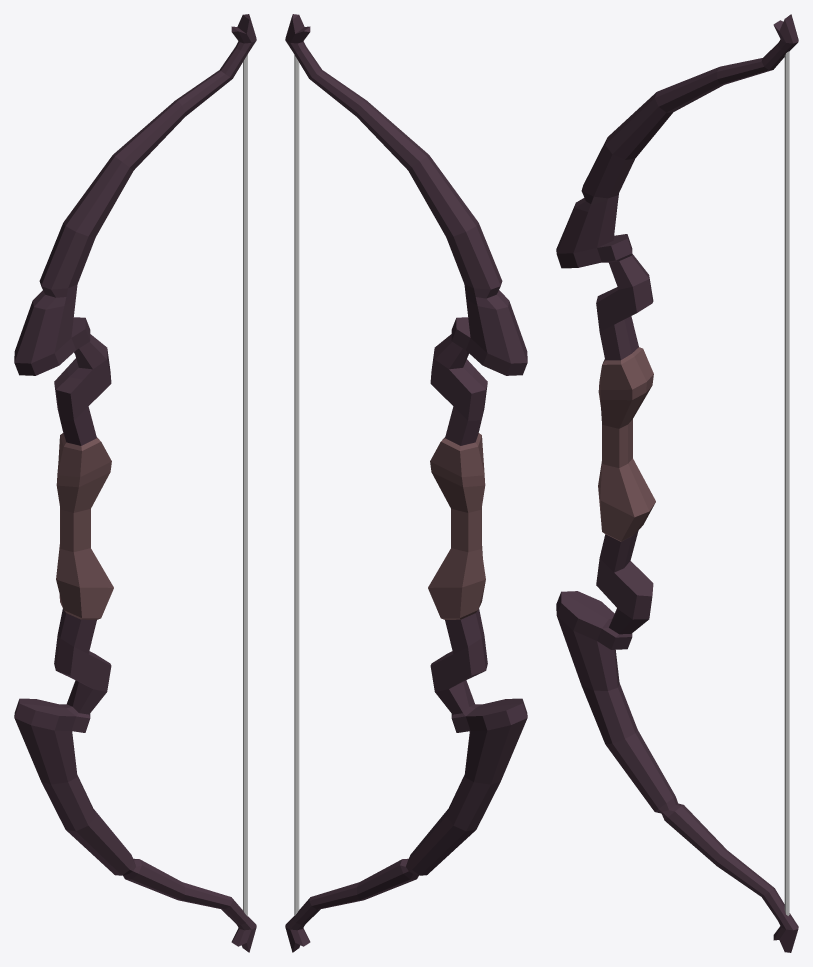
The model's file is bow_wooden.glb.
3 renders of one model, left to right at view 1: azimuth 30°, elevation 25°; view 2: azimuth 150°, elevation 25°; view 3: azimuth 330°, elevation 25°, orthographic.
Parts seen in each view (by area): view 1: Bow_Wooden; view 2: Bow_Wooden; view 3: Bow_Wooden.
Part boxes in pixels (x1=…): Bow_Wooden: x1=14, y1=14, x2=256, y2=952; Bow_Wooden: x1=285, y1=14, x2=527, y2=952; Bow_Wooden: x1=556, y1=14, x2=798, y2=952.
Size of the model in its own units: 0.5329 by 1.97 by 0.0884.
